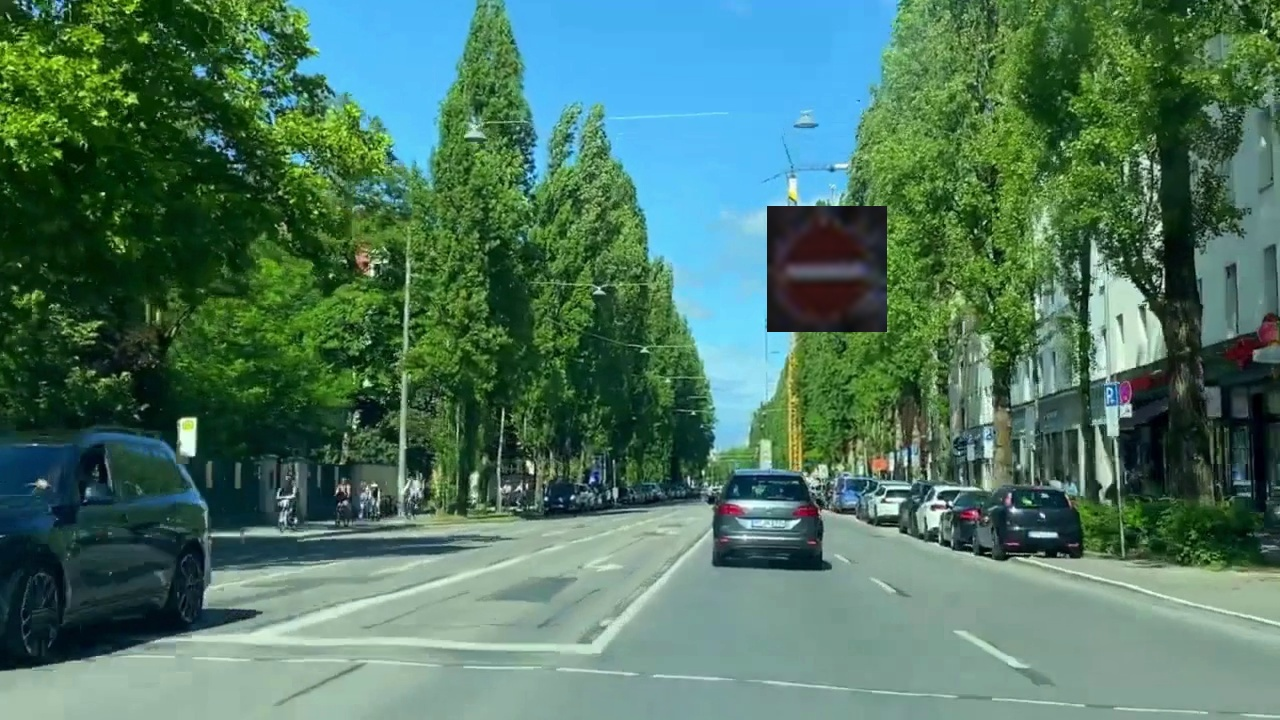No entry: (767, 206, 887, 332)
